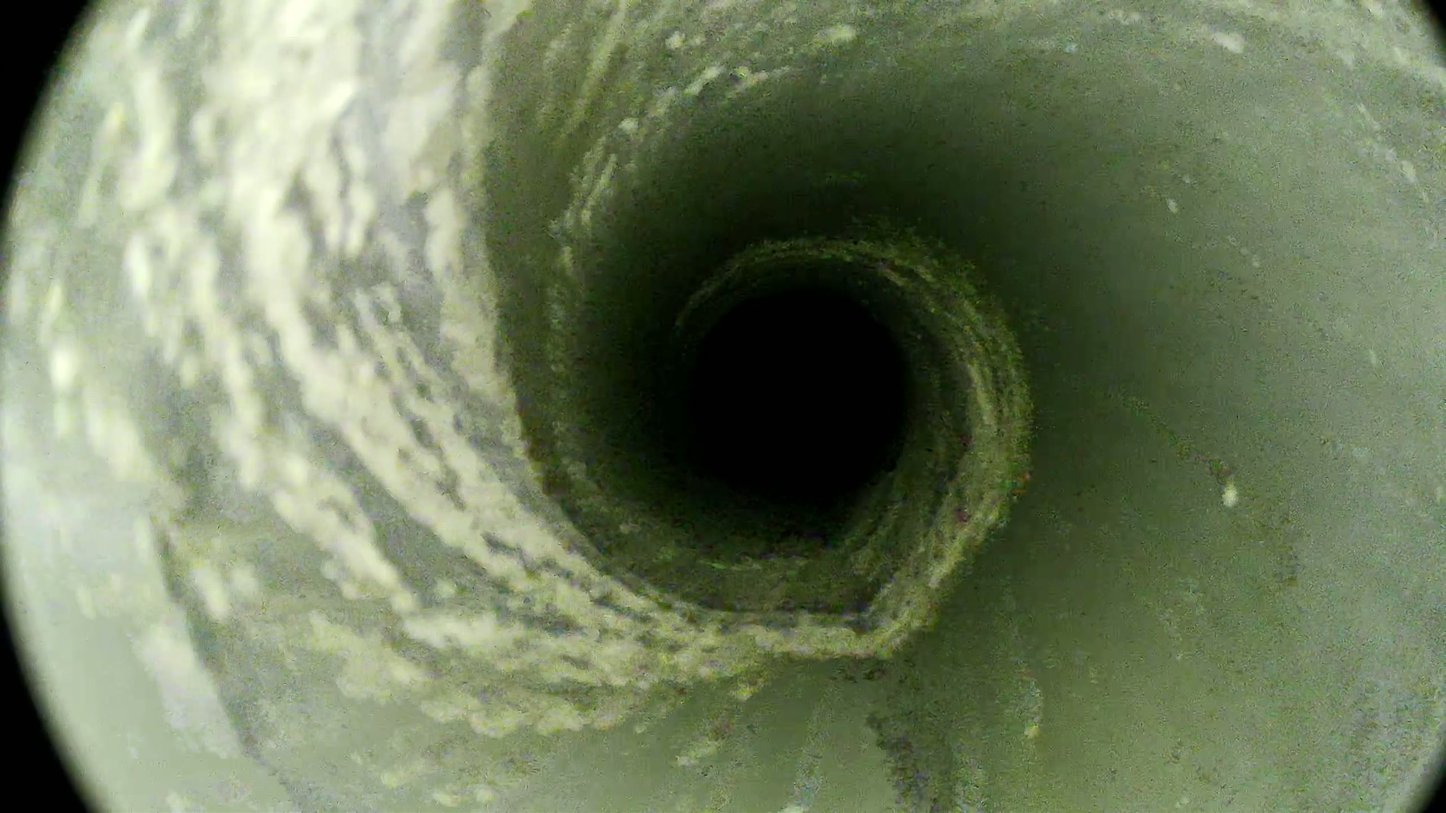hole: (692, 292, 904, 493)
